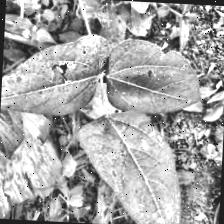ALS: (75, 113, 188, 224), (0, 29, 112, 118), (127, 48, 190, 114)
